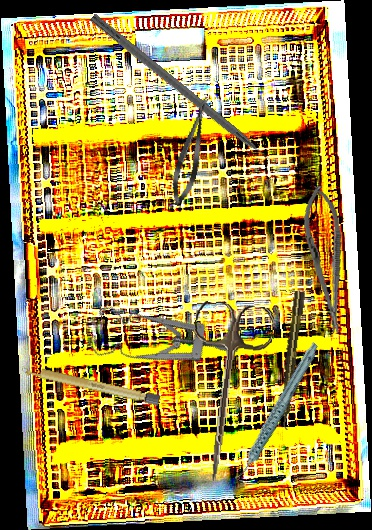Handpiece: (207, 340, 344, 482), (276, 290, 307, 431)
Hook Surgical: (87, 13, 281, 173)
Iris Scissors: (178, 300, 276, 486)
Micro Scissor: (166, 93, 217, 209)
Needle Holder: (298, 183, 354, 336)
Scalpel Handle: (20, 363, 161, 406)
Speculum: (78, 273, 243, 416)
